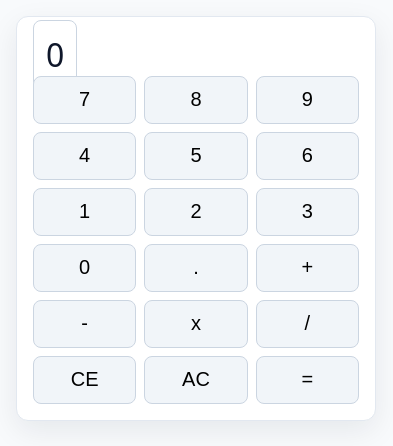
Test: App number entry behavior › starts the next operand with a decimal after an operator
Click the button "9" at (307, 100), box [256,76,359,124]
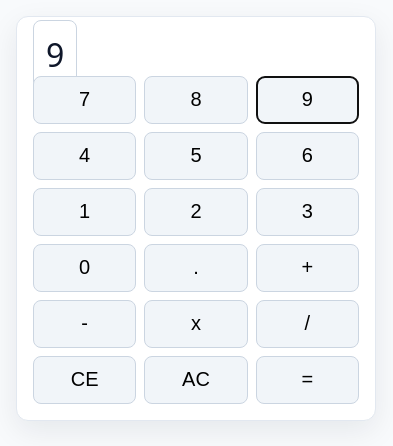
Click the button "+" at (307, 268), box [256,244,359,292]
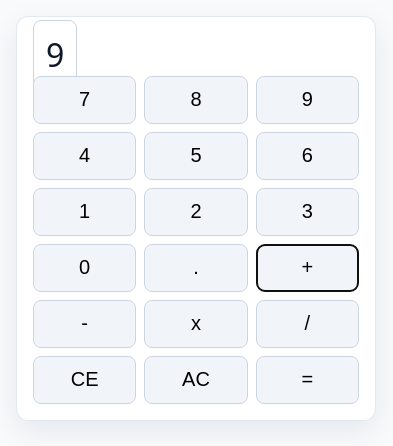
Click the button "." at (196, 268), box [144,244,248,292]
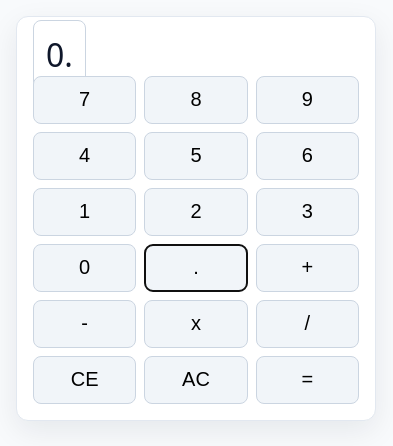
Click the button "4" at (85, 156), box [33,132,136,180]
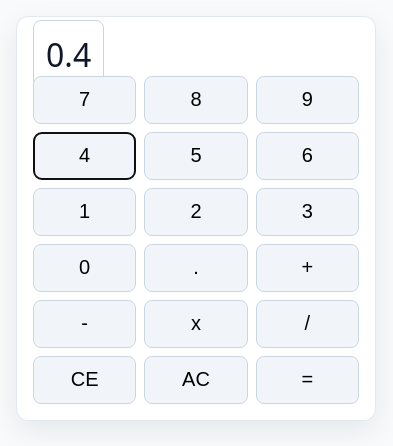
Click the button "=" at (307, 380), box [256,356,359,404]
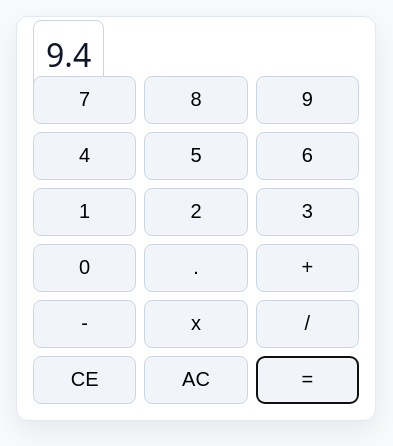
Check: the text named "Display" reads "9.4", box [46,32,91,76]
